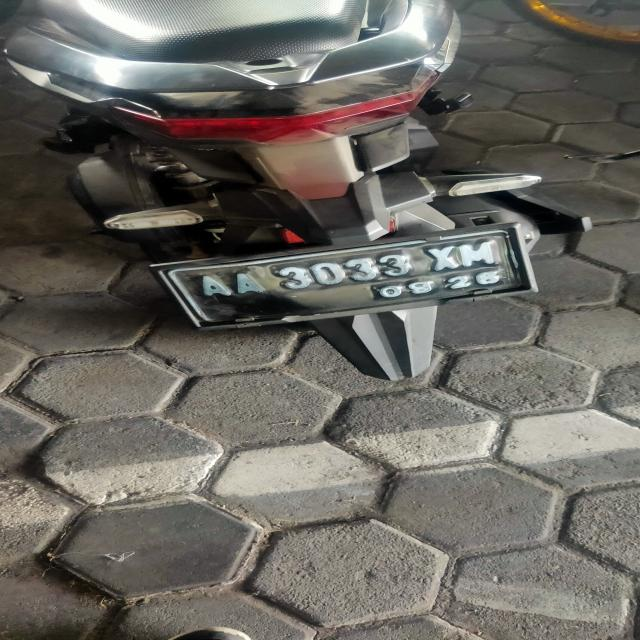License-Plate: (100, 234, 590, 320)
